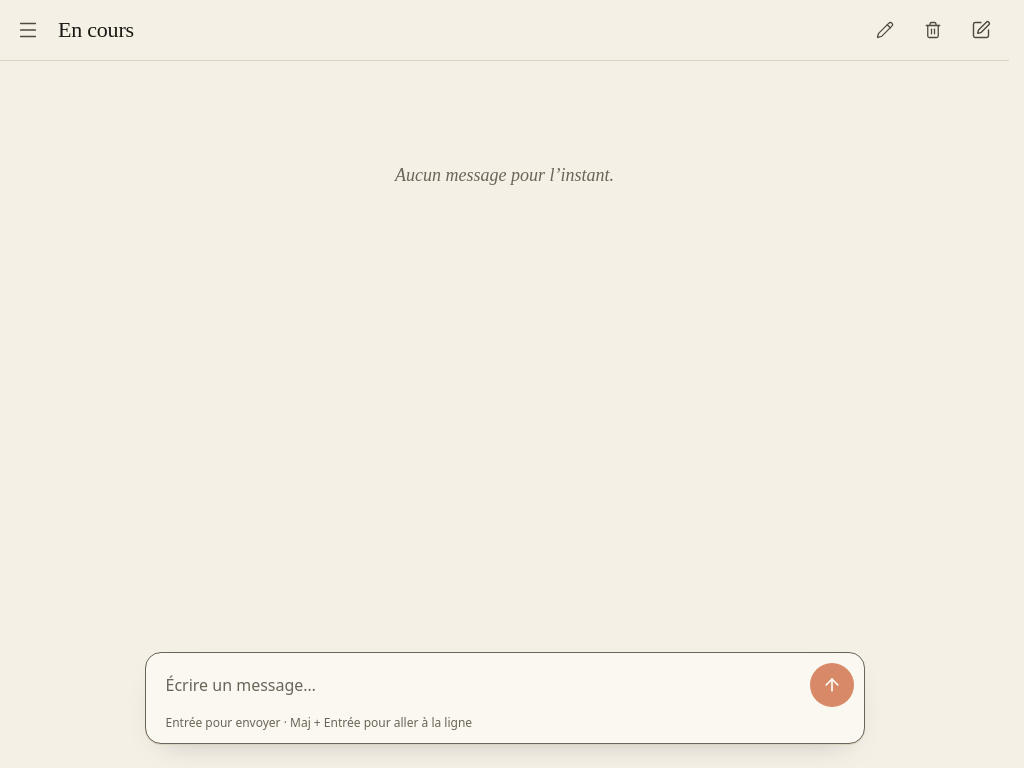
Scenario: new conversation shortcut › closes the mobile drawer
This screenshot has width=1024, height=768.
Check: the heading "En cours" is shown, box [58, 17, 134, 42]
Click the button named "Ouvrir la navigation": (28, 30) [6, 8, 50, 52]
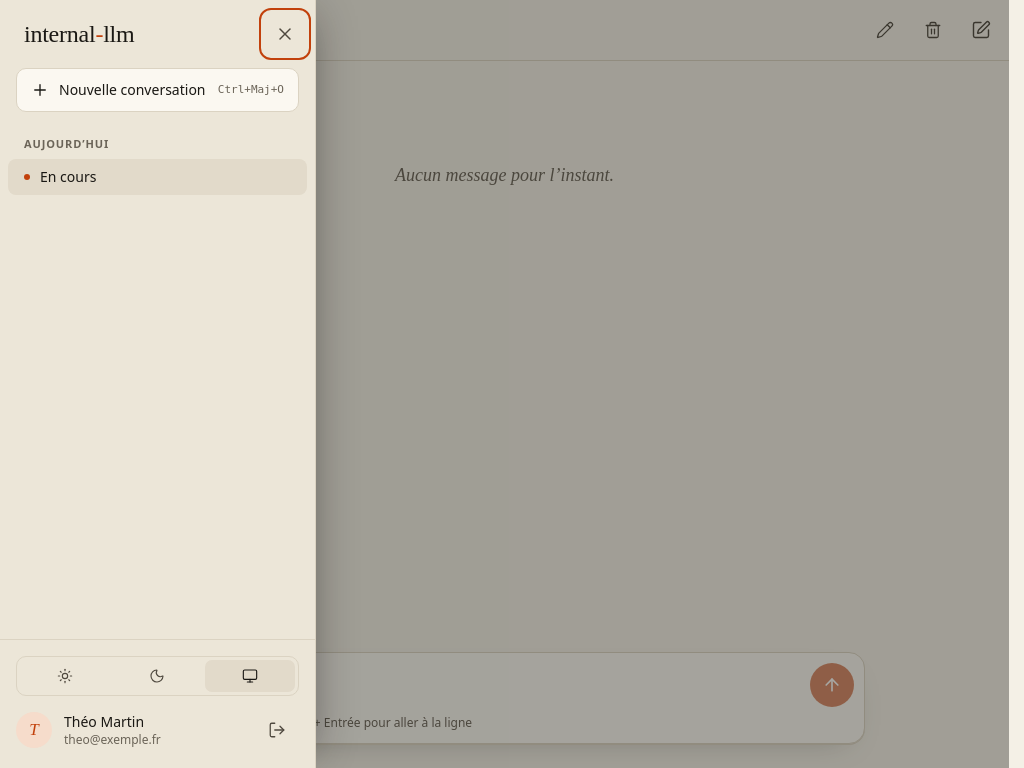
Check: the dialog named "Navigation" is shown, box [0, 0, 316, 767]
Type keys "{Control>}{Shift>}O{/Shift}{/Control}"
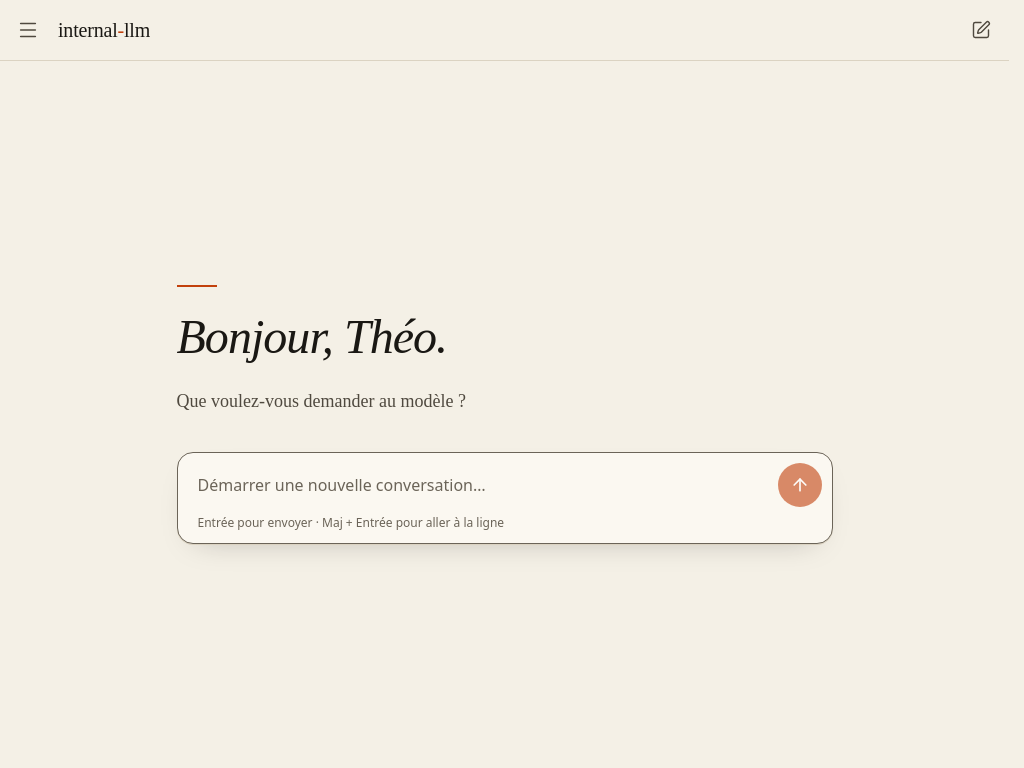
Check: the heading "Bonjour, Théo." is shown, box [176, 310, 447, 363]
Check: the dialog is gone
